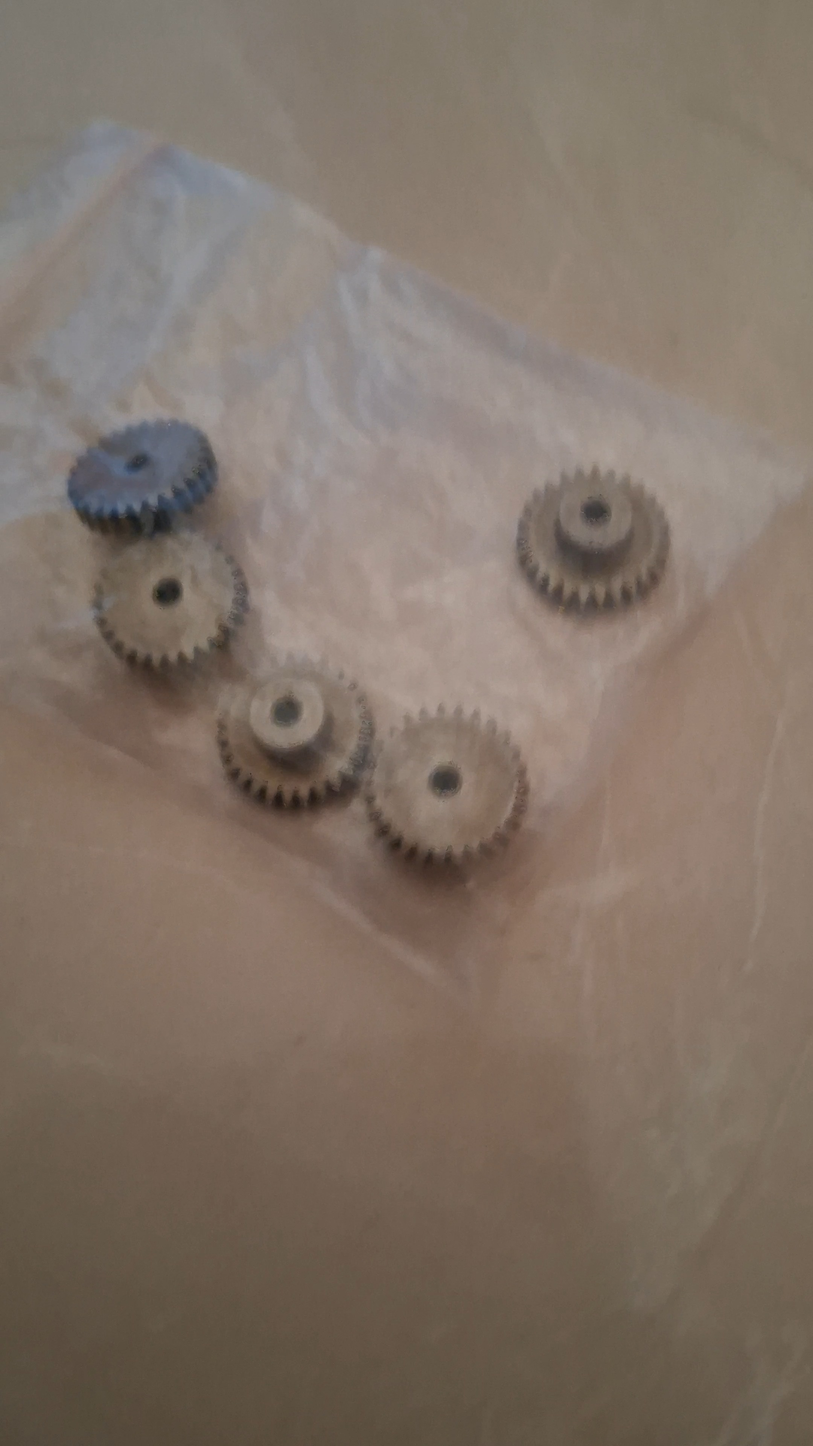spur gear: (367, 707, 527, 860), (217, 658, 373, 806), (517, 468, 669, 609), (93, 533, 247, 667), (67, 420, 216, 533)
